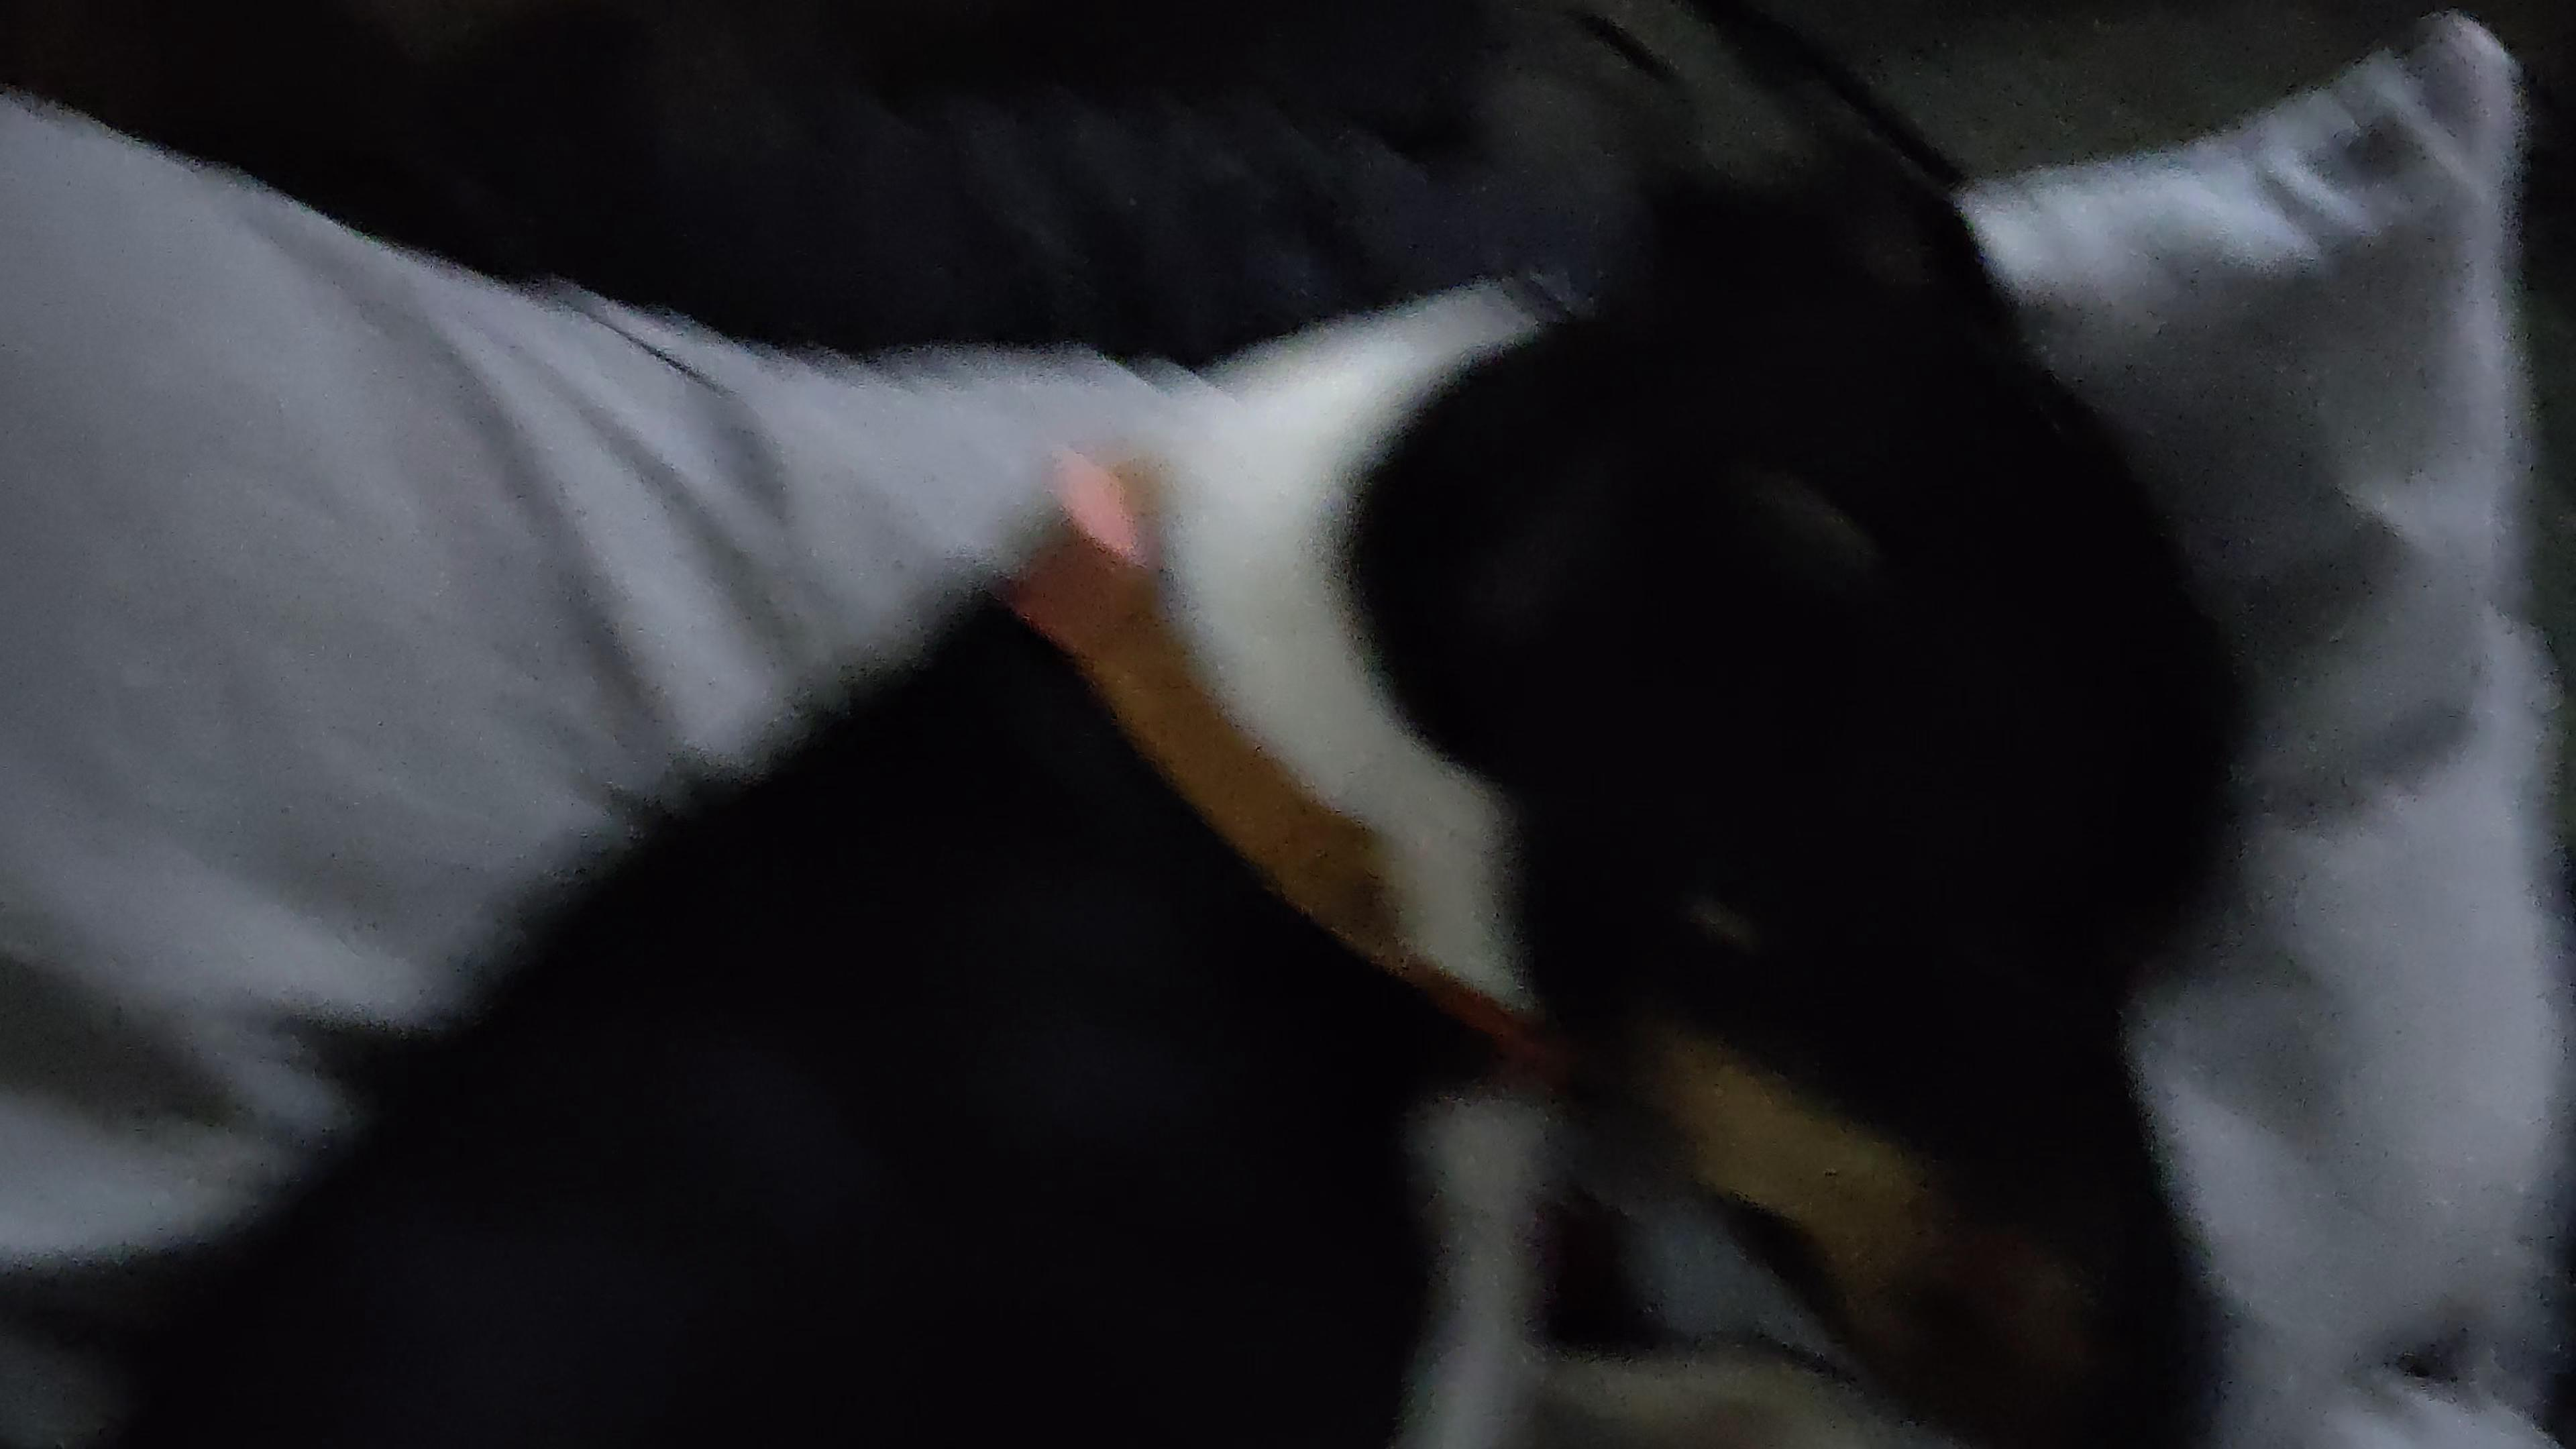Dog: (119, 119, 2319, 1449)
